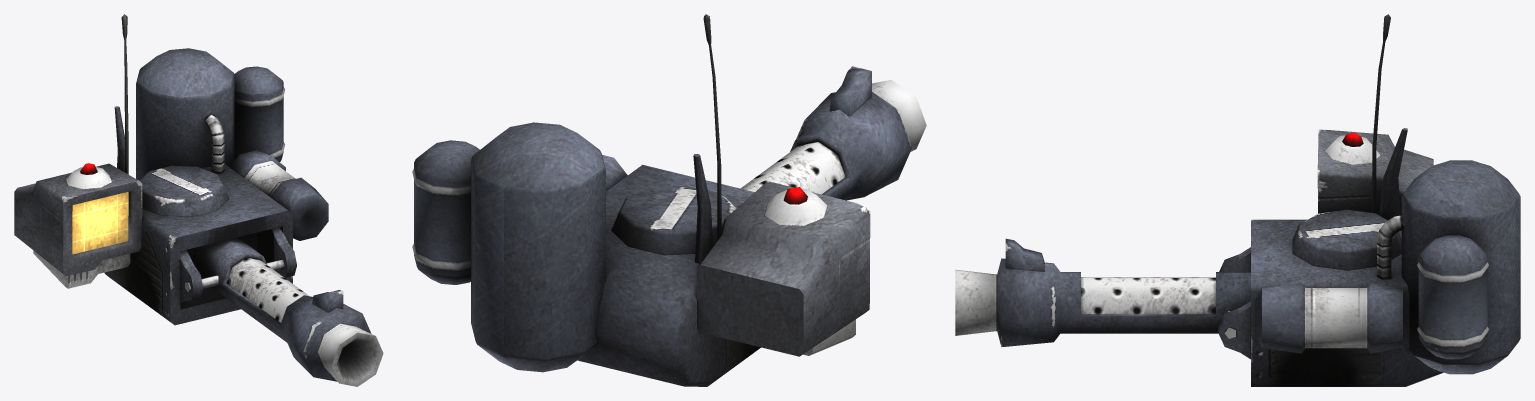
File: up turret.fbx
3 views of the same model, side by side, from view 1: azimuth 30°, elevation 25°; view 2: azimuth 150°, elevation 25°; view 3: azimuth 270°, elevation 25° (orthographic). The views are drawn at different scales.
Visible parts, largest first — view 1: Turret; view 2: Turret; view 3: Turret.
Boxes of the visible parts, left/top/right/bottom form: Turret: left=14, top=14, right=383, bottom=386; Turret: left=412, top=14, right=926, bottom=386; Turret: left=955, top=14, right=1520, bottom=386.
Size of the model in its own units: 921 by 855 by 1400.
